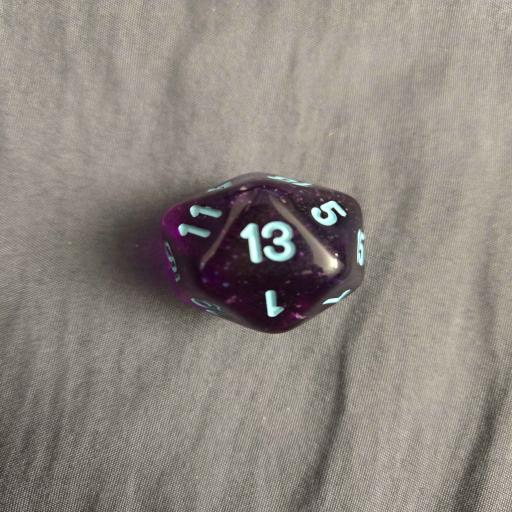twenty sided dice: (161, 172, 365, 334)
